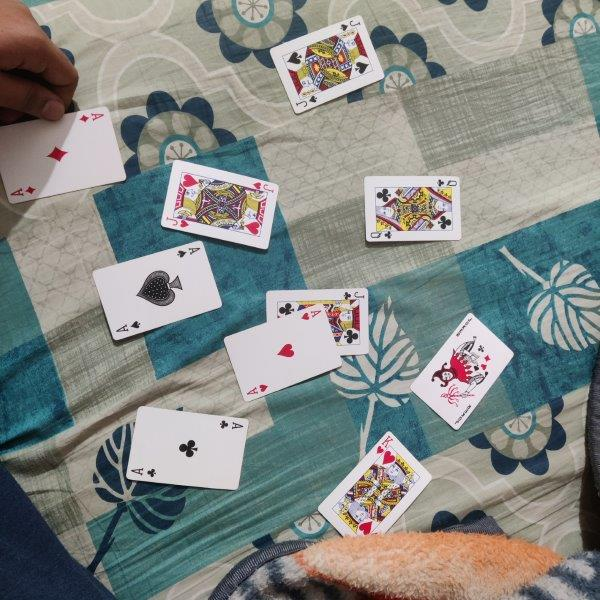Ace of Clubs: (125, 405, 249, 491)
Ace of Diamonds: (1, 106, 126, 203)
Ace of Hearts: (222, 302, 343, 404)
Ace of Spades: (93, 241, 223, 342)
Jack of Clubs: (266, 289, 369, 356)
Jack of Hearts: (161, 159, 280, 251)
Jack of Spades: (269, 14, 385, 115)
Joker: (410, 313, 515, 432)
King of Hearts: (316, 431, 432, 537)
Queen of Clubs: (363, 176, 462, 242)
